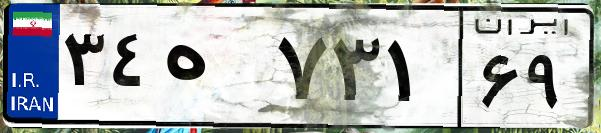1: (385, 28, 445, 110)
3: (330, 28, 385, 110), (57, 26, 110, 100)
4: (110, 28, 158, 98)
6: (475, 38, 525, 113)
7: (270, 28, 330, 110)
9: (525, 38, 570, 115)
ه: (158, 20, 270, 120)
